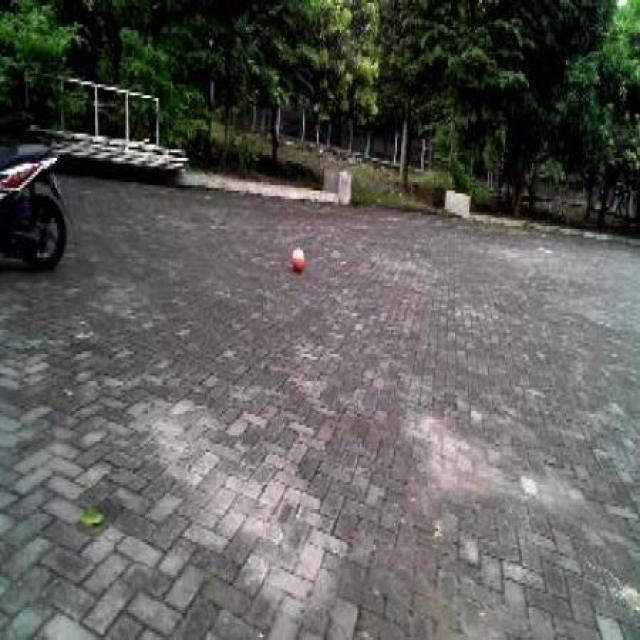buoy: (288, 241, 309, 280)
